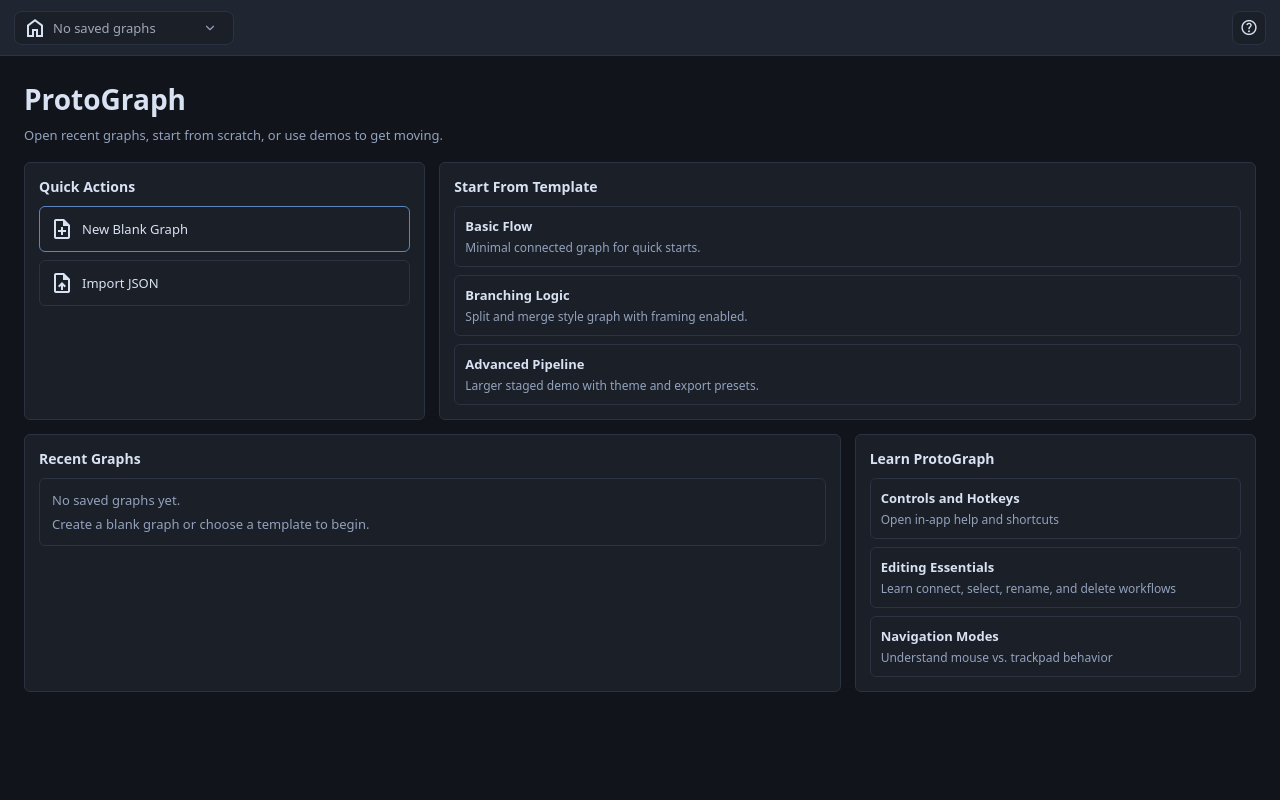
Test case: App home workflow › creates a graph from template and shows editor canvas
What coordinates should you click on to do the following:
click the button with class "home-template-card" that starts with "Basic Flow"
I would click on:
 (499, 226)
Its box is x1=454 y1=206 x2=1241 y2=267.
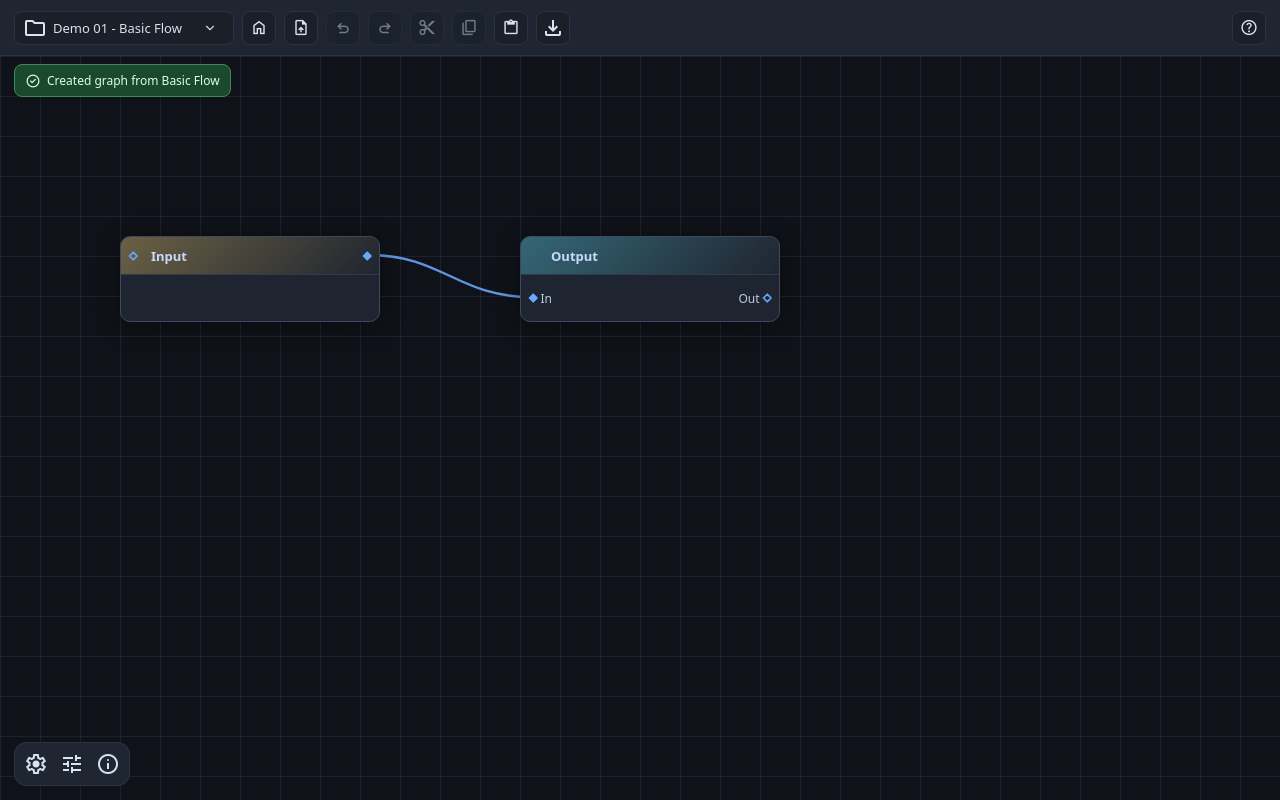
Check: the element with class "home-screen" is gone
Check: the element with class "node-card" showing "Input" is shown, box x1=120 y1=236 x2=380 y2=322
